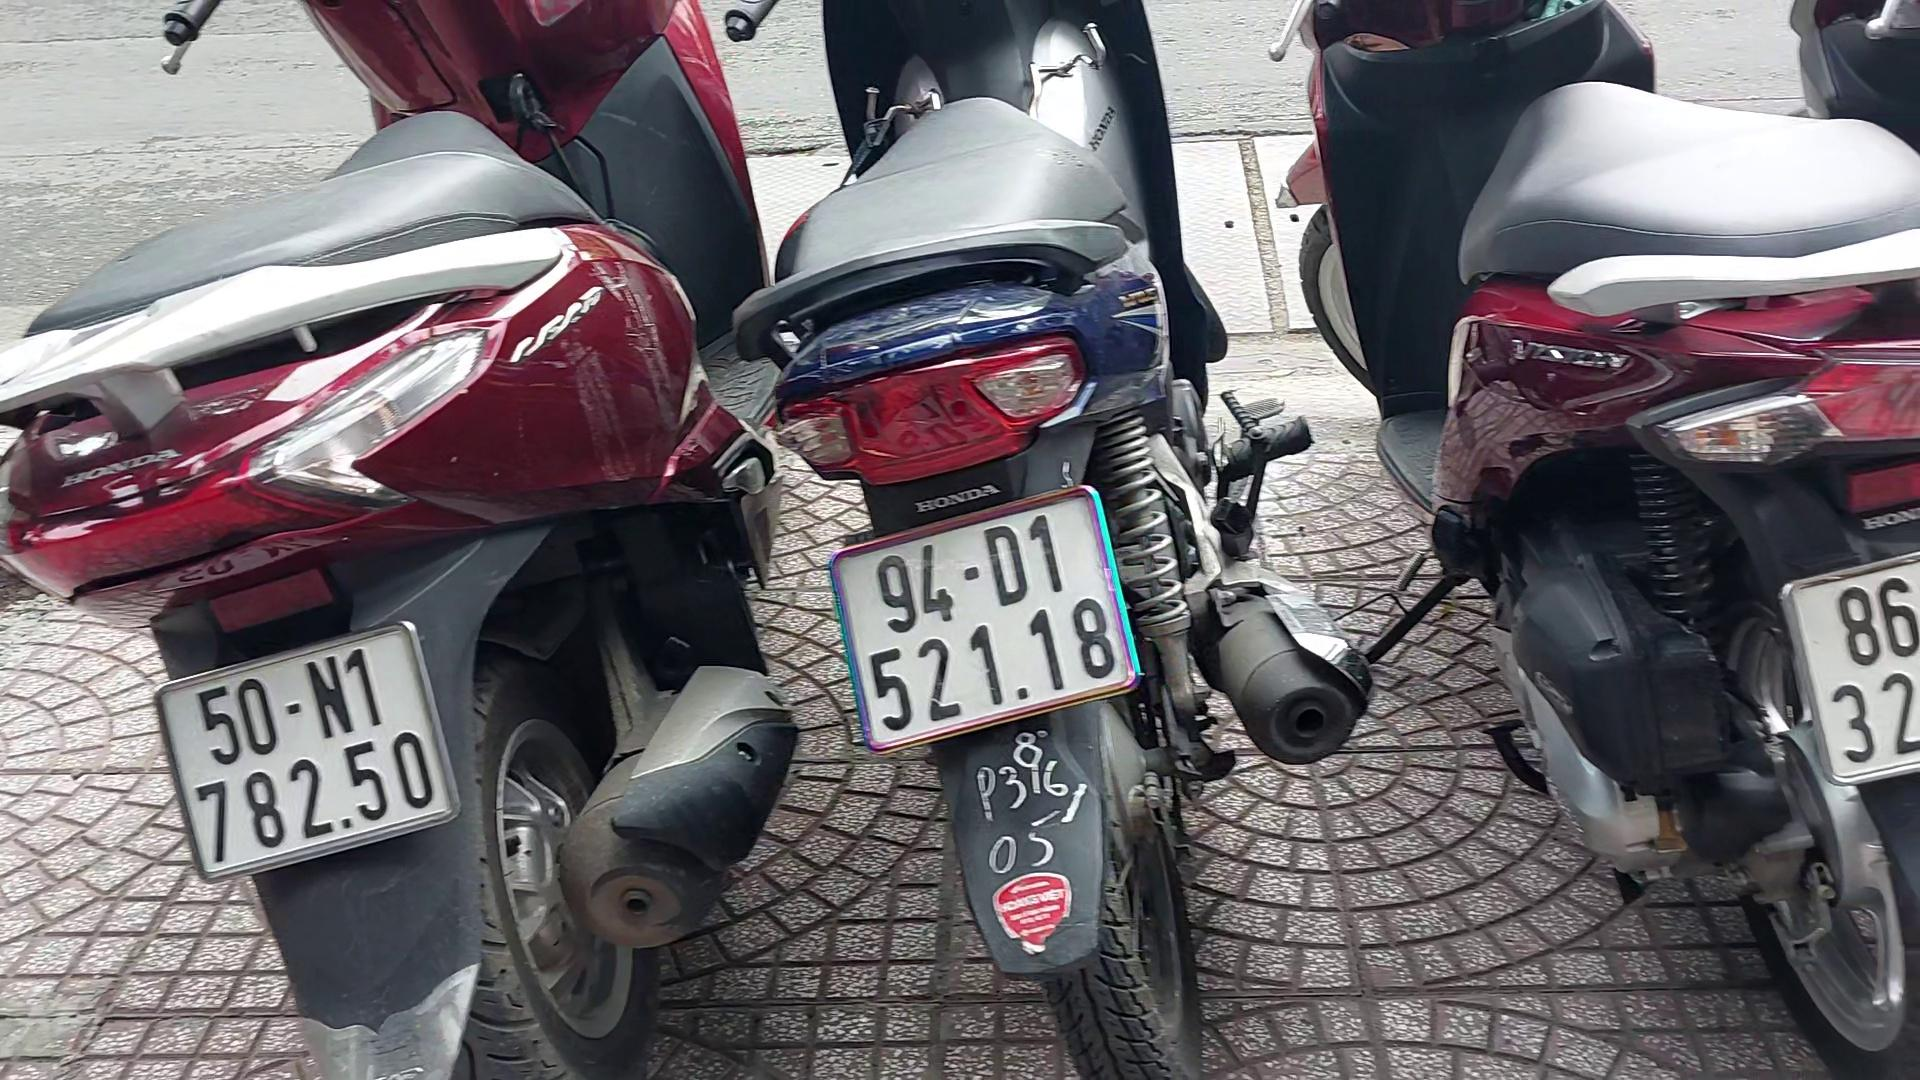numplate: (823, 483, 1160, 763), (147, 647, 473, 873), (1760, 553, 1920, 800)
